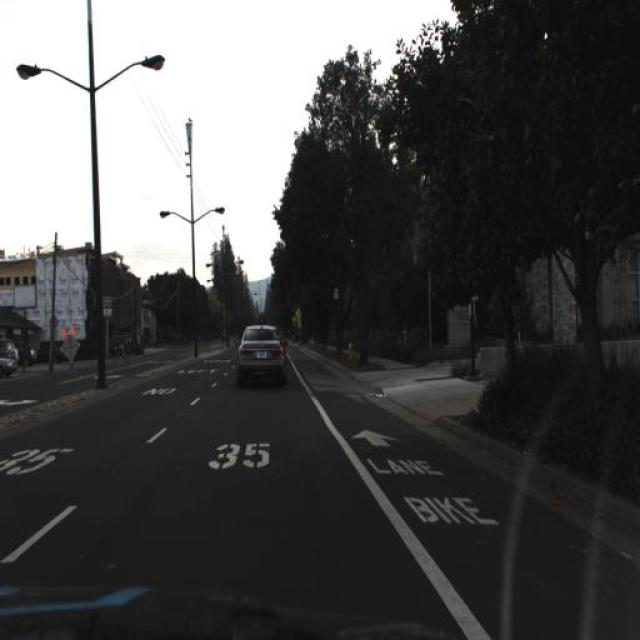car: (231, 320, 289, 390), (0, 340, 28, 391)
